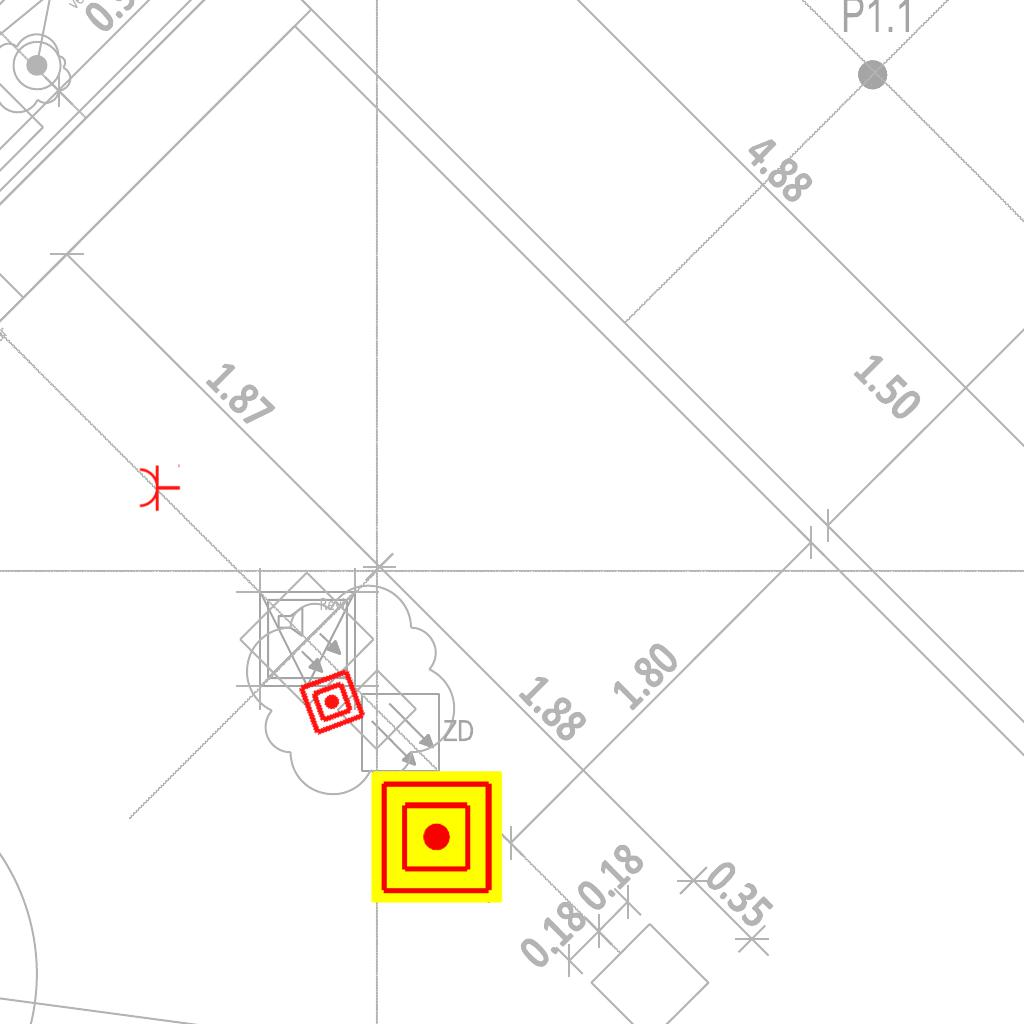NAM-Nichtautomatischer_Melder: (371, 771, 503, 903), (296, 666, 368, 738)
Schukosteckdose_einfach: (138, 462, 181, 512)
